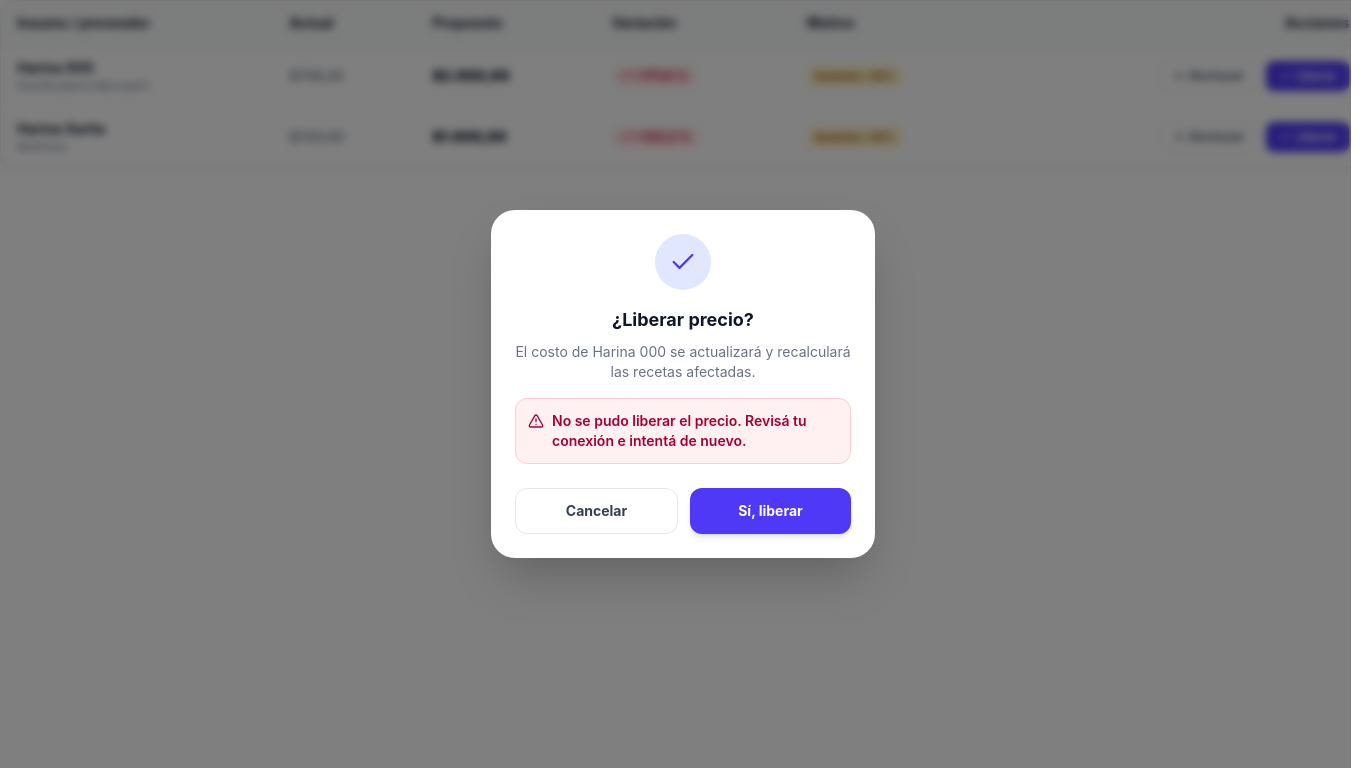
Test: QuarantineList › Escenario Gherkin: error al liberar o rechazar › el error de una acción no queda visible al abrir el diálogo de otro precio
Earlier steps of the test are not shown.
Check: the message "No se pudo liberar el precio. Revisá tu conexión e intentá de nuevo." is shown, box [515,398,851,464]
Click the button "Cancelar" at (596, 511), box [515,488,678,534]
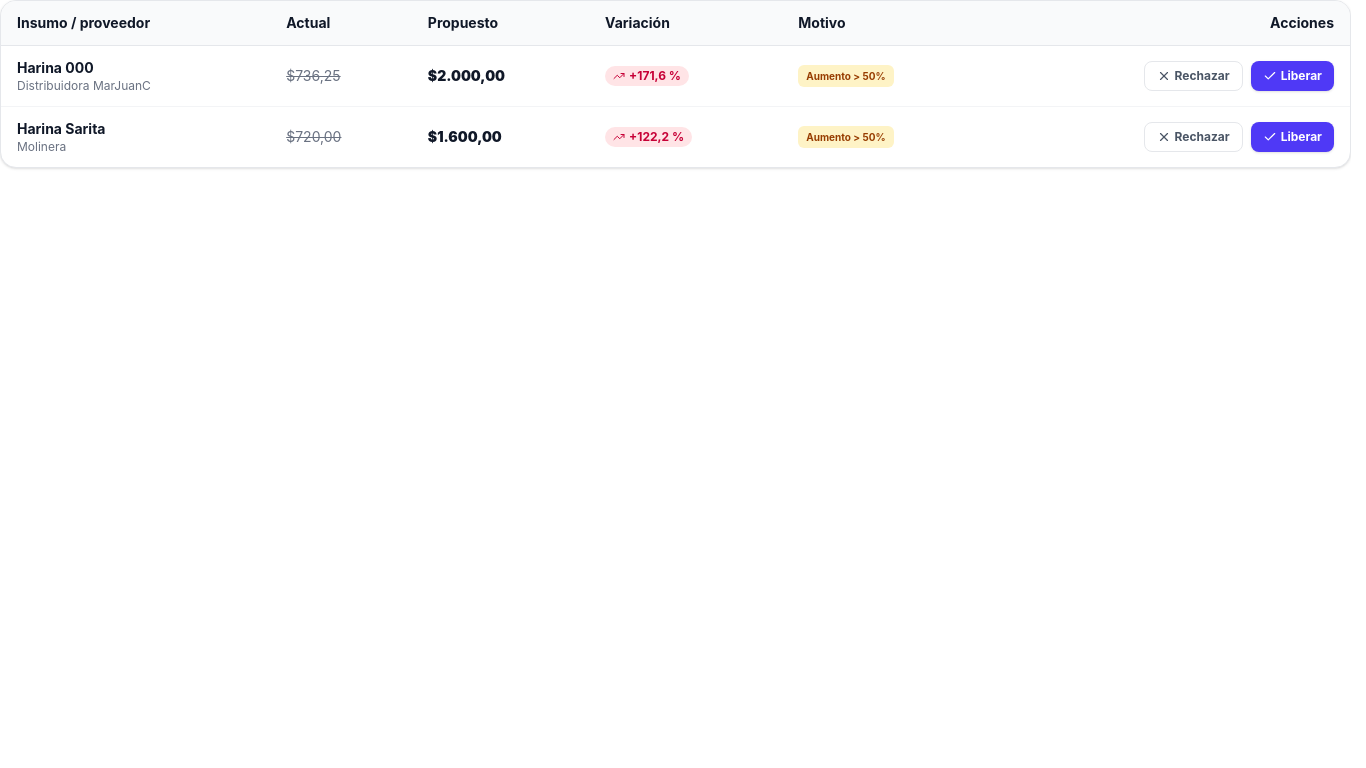
Check: the dialog is gone
Click the button "Rechazar" in the row of "Harina Sarita" at (1193, 137), box [1144,122,1243,152]
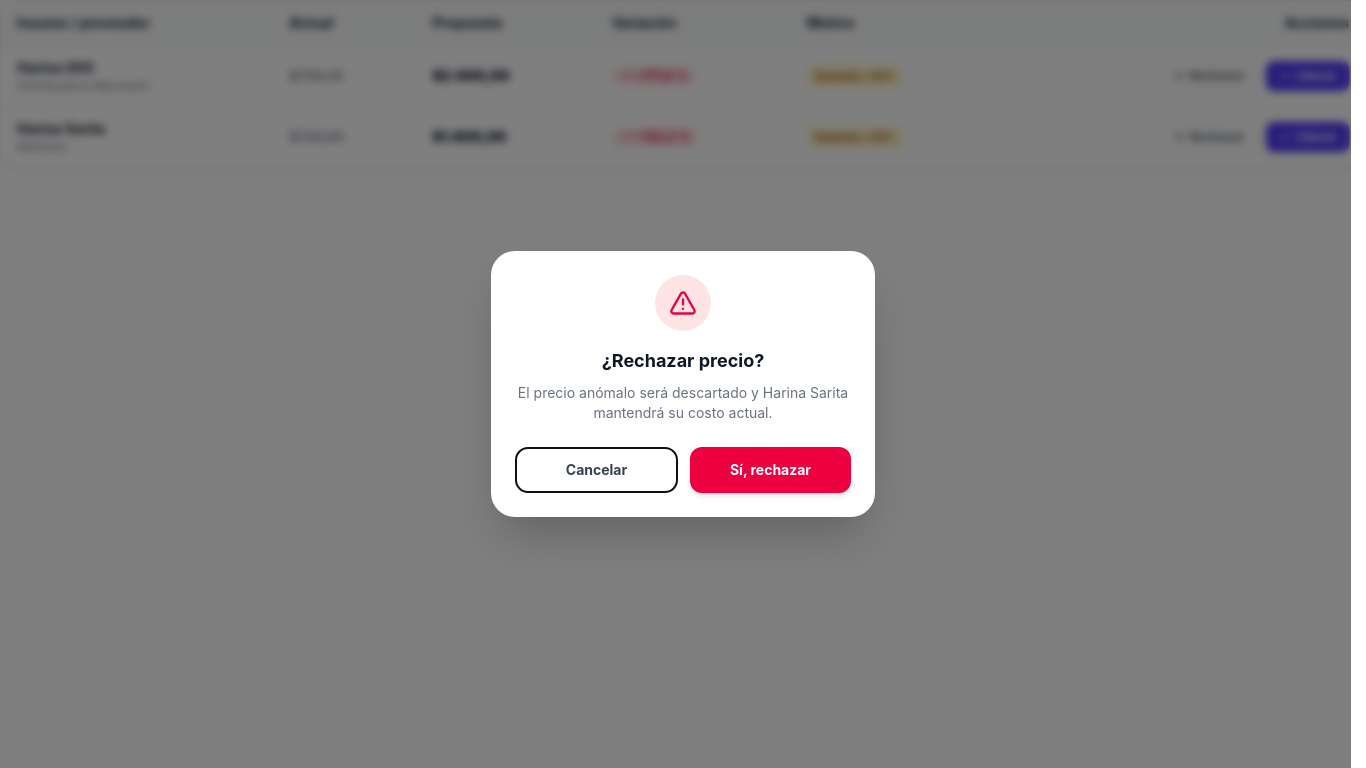
Check: the message "No se pudo liberar el precio. Revisá tu conexión e intentá de nuevo." is not shown
Check: the heading "¿Rechazar precio?" is shown, box [602,350,764,371]
